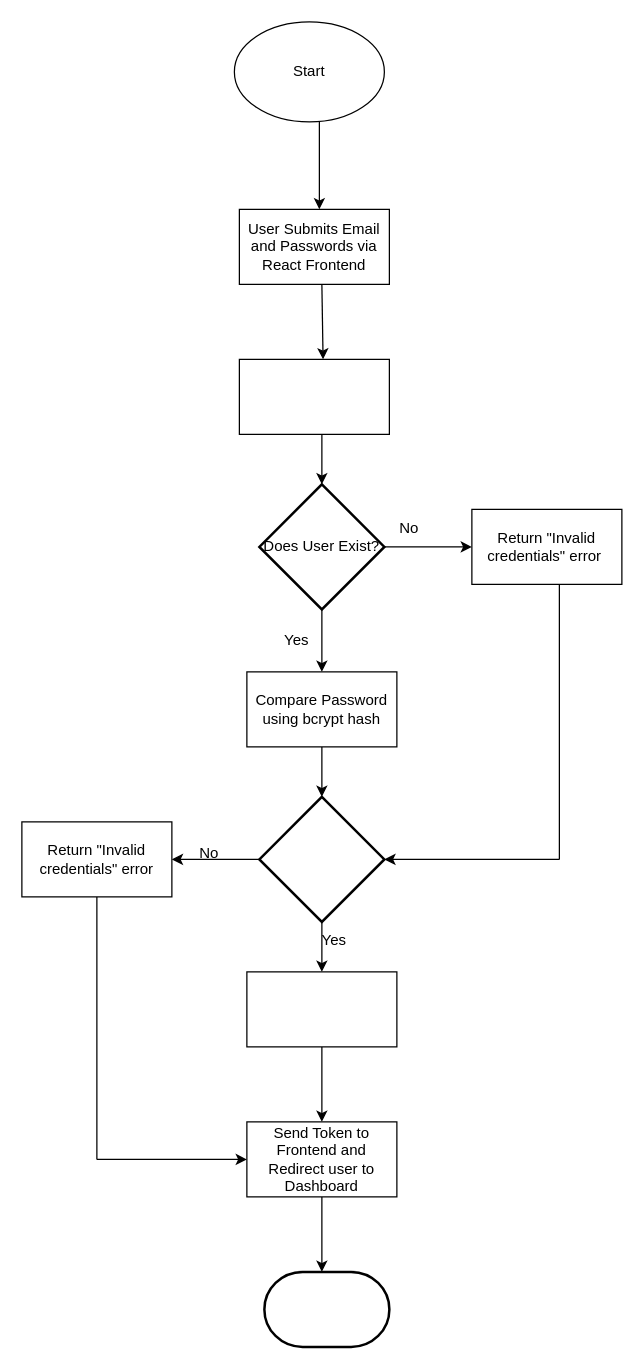
This 644x1370 diagram has some shape labels left out. The centre of each missing label's shape, as x and y in pixels:
Backend API receives credentials and queries MongoDB Users DB: (313,396)
Does Password match?: (321,858)
End: (326,1309)
Generate JWT Token (User ID + Role): (321,1009)
